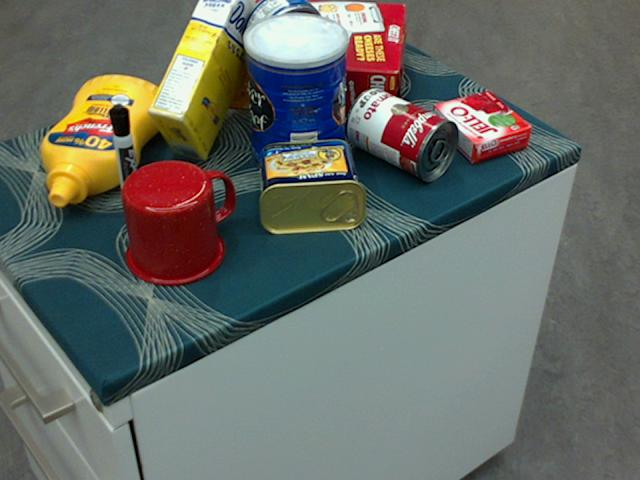cracker_box: (207, 0, 404, 119)
gelatin_box: (431, 92, 530, 162)
large_marker: (107, 104, 144, 216)
master_chef_can: (243, 13, 347, 182)
mug: (121, 158, 235, 285)
mustard_bottle: (39, 75, 166, 206)
potted_meat_can: (256, 136, 366, 235)
sugar_box: (147, 0, 263, 162)
tomato_soup_can: (345, 87, 459, 181)
tuna_fish_can: (241, 0, 323, 72)
